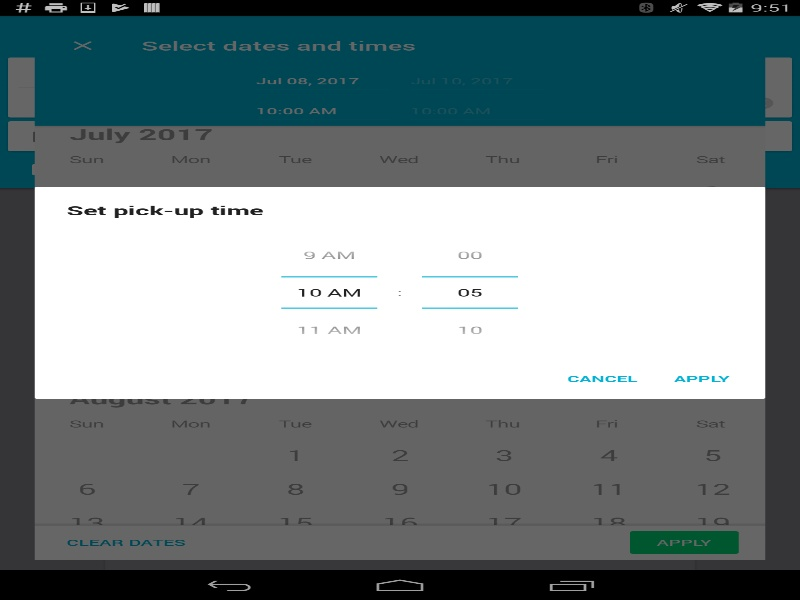Button: (281, 236, 377, 277), (281, 307, 377, 348), (422, 236, 518, 277), (422, 307, 518, 348)
Input: (281, 277, 377, 307), (422, 277, 518, 307)
